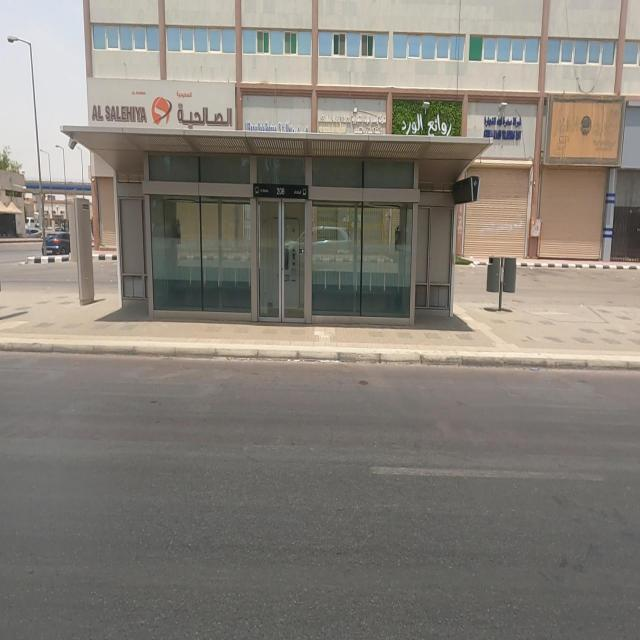debris: (496, 38, 640, 218)
